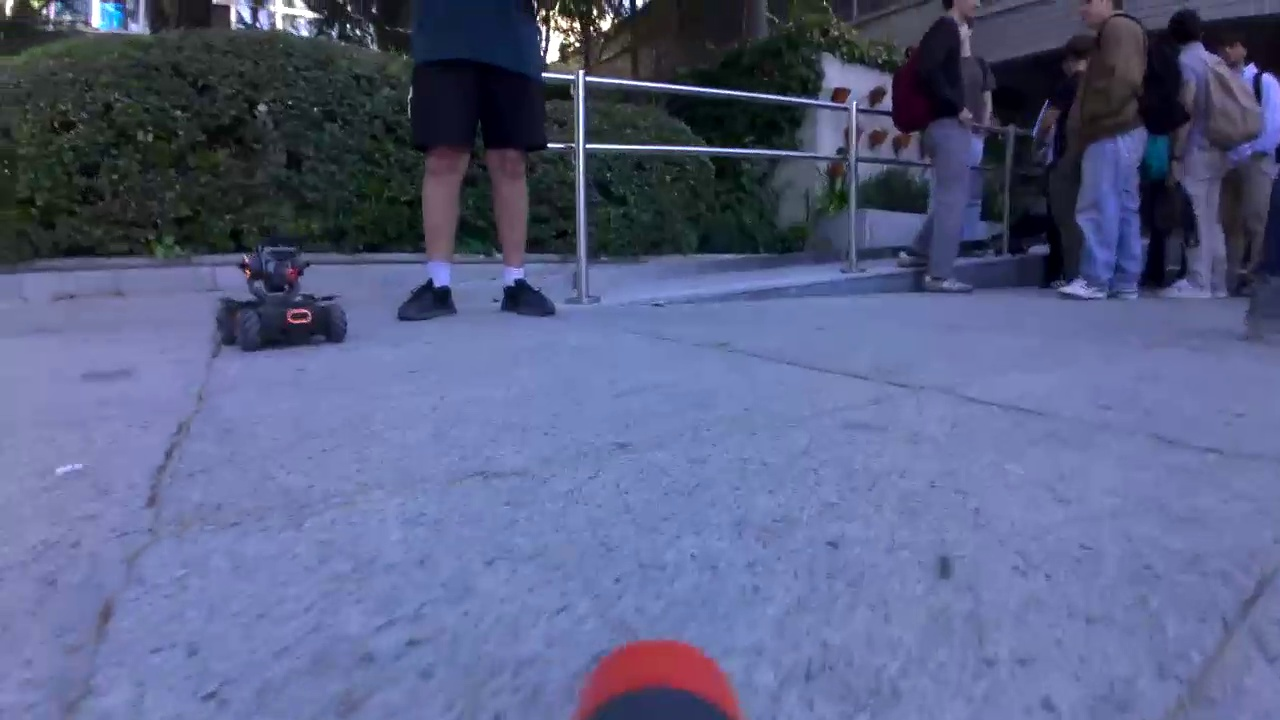robot: (214, 240, 349, 352)
